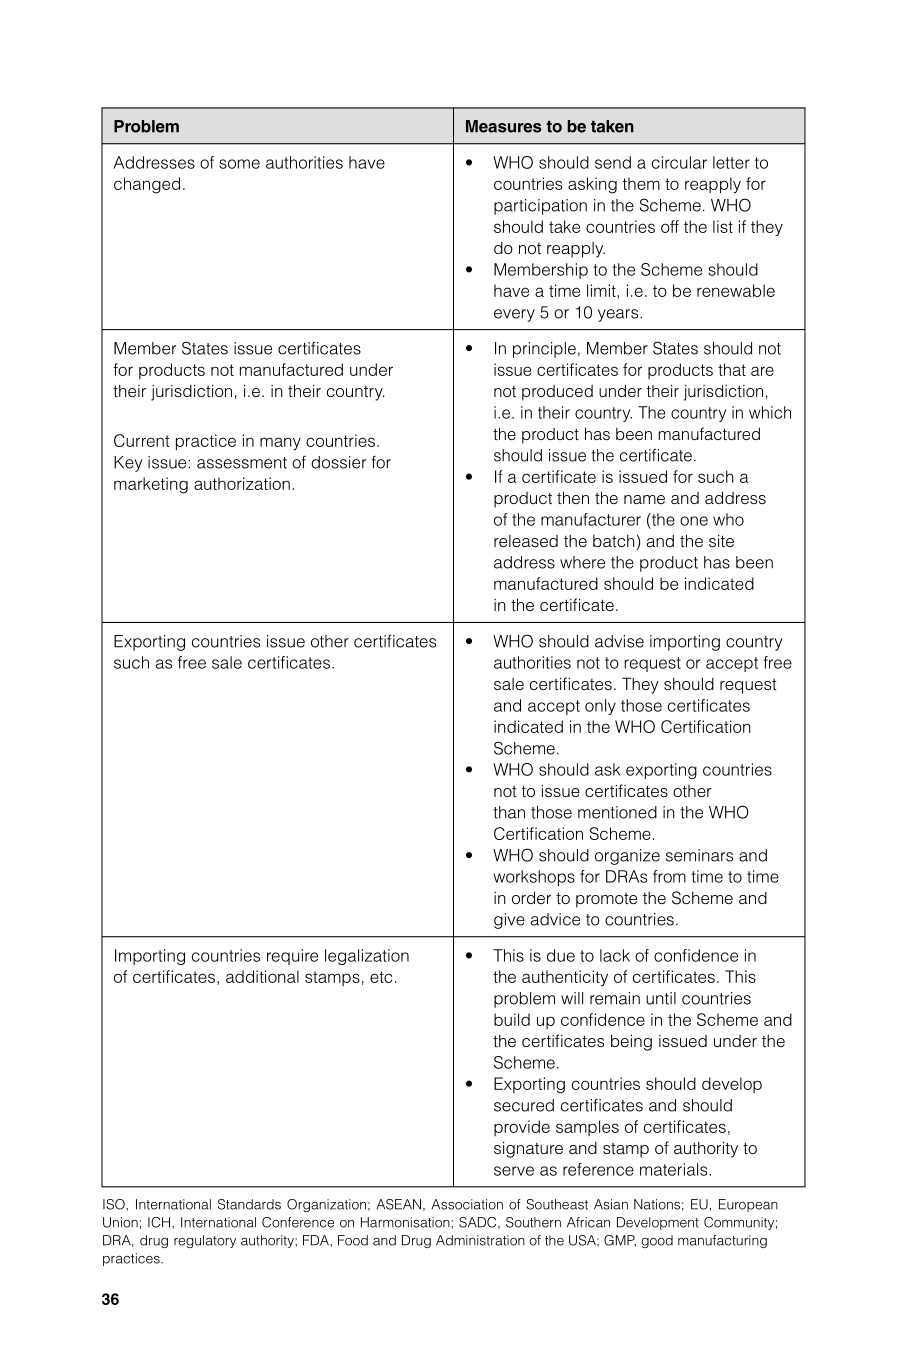full_lined: (99, 101, 811, 1193)
